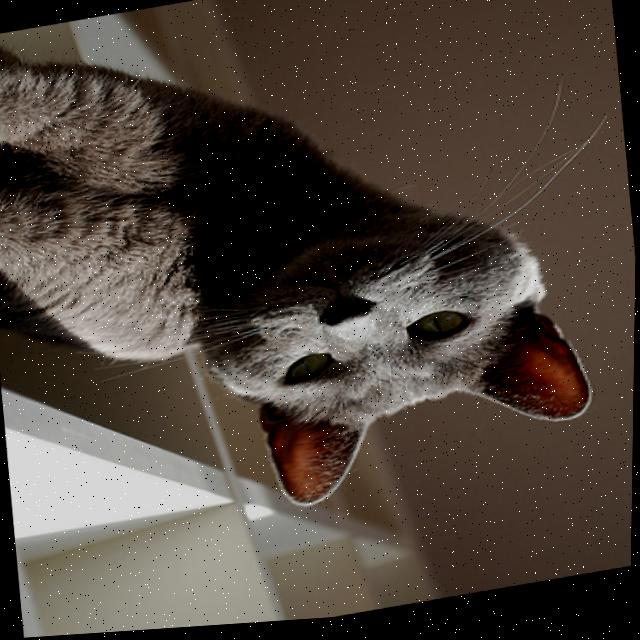Russian Blue: (0, 0, 613, 564)
